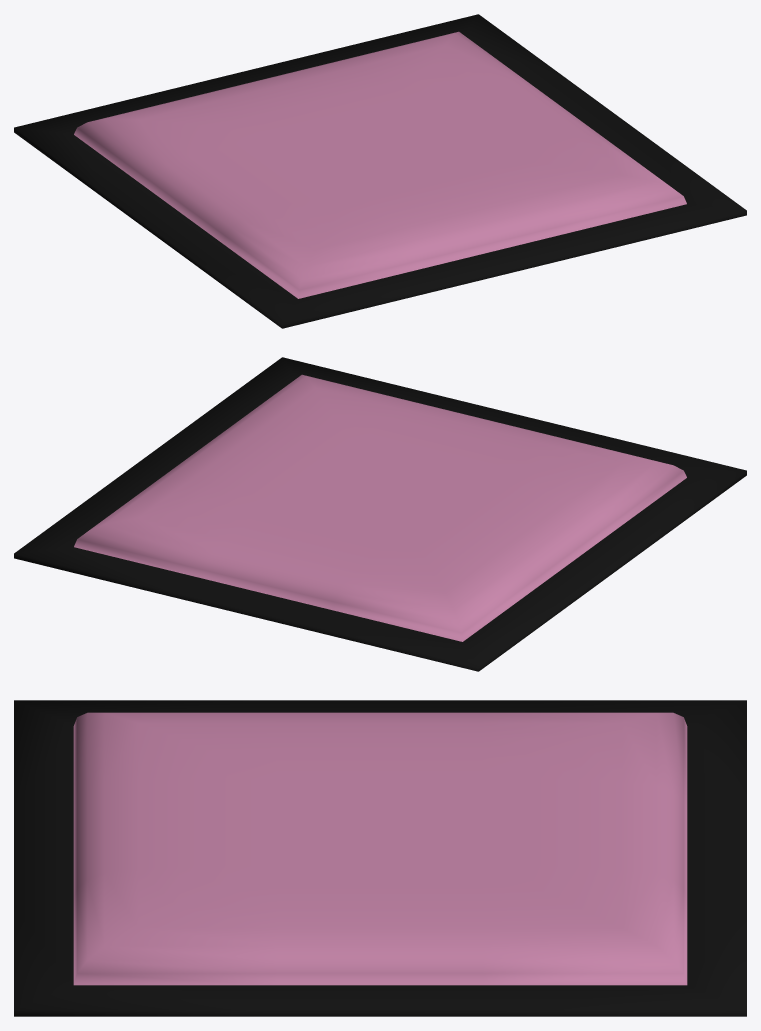
File: BoostPad.fbx
The picture shows the model from 3 angles, top to bottom: view 1: azimuth 30°, elevation 25°; view 2: azimuth 150°, elevation 25°; view 3: azimuth 270°, elevation 25°; orthographic projection. The views are drawn at different scales.
Visible parts, largest first — view 1: BoostPad; view 2: BoostPad; view 3: BoostPad.
Part boxes in pixels (box(x1,y1,x2,y2)): BoostPad: box(14, 14, 746, 328); BoostPad: box(14, 357, 746, 671); BoostPad: box(14, 700, 746, 1016).
Bounding box in the file's own units: 119 × 119 × 7.02.
